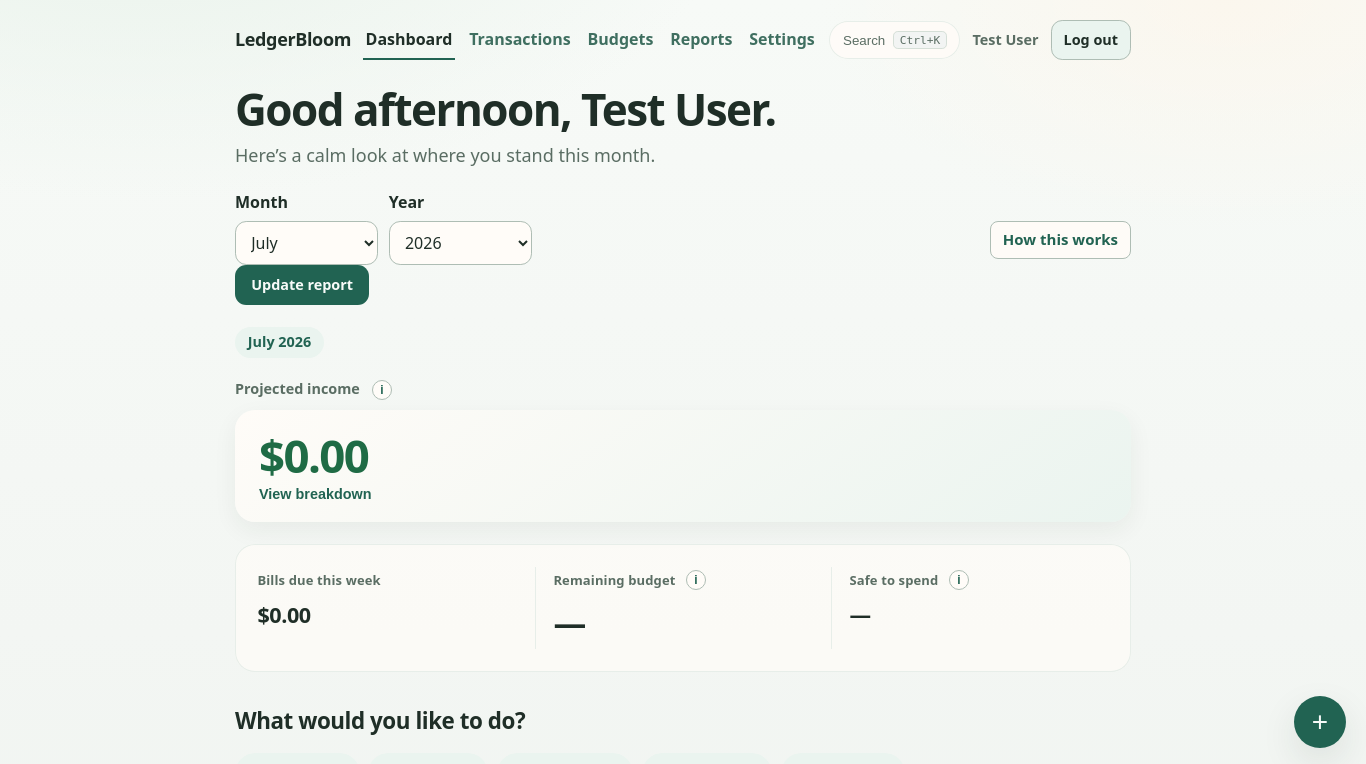
Scenario: Reports routes › navigates from Dashboard to Reports via primary nav
Expected: the heading "Good afternoon, Test User." is shown, [235, 79, 776, 139]
Step 1. Click the link "Reports" → (701, 39), box [670, 28, 732, 50]
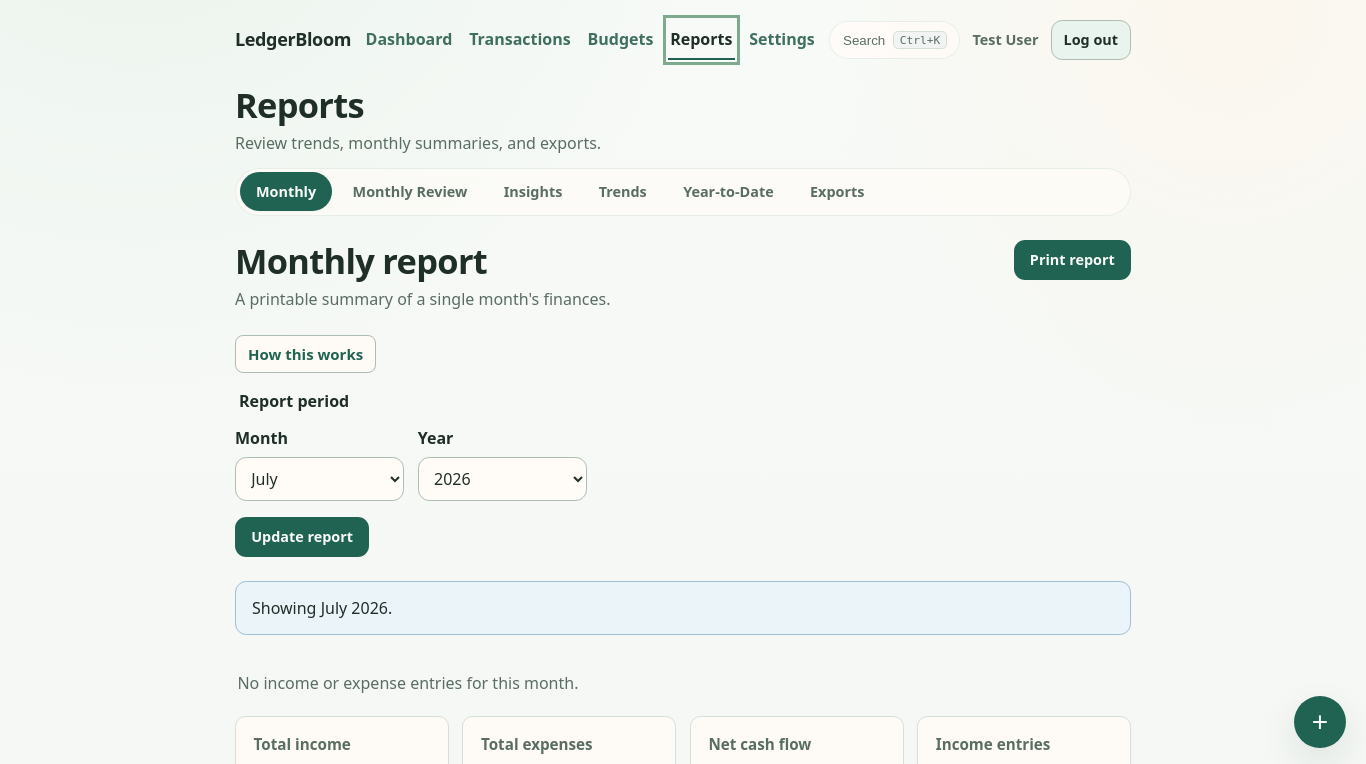
Expected: the heading "Monthly report" is shown, [235, 237, 487, 284]
Step 2. Click the link "Dashboard" → (409, 39), box [366, 28, 452, 50]
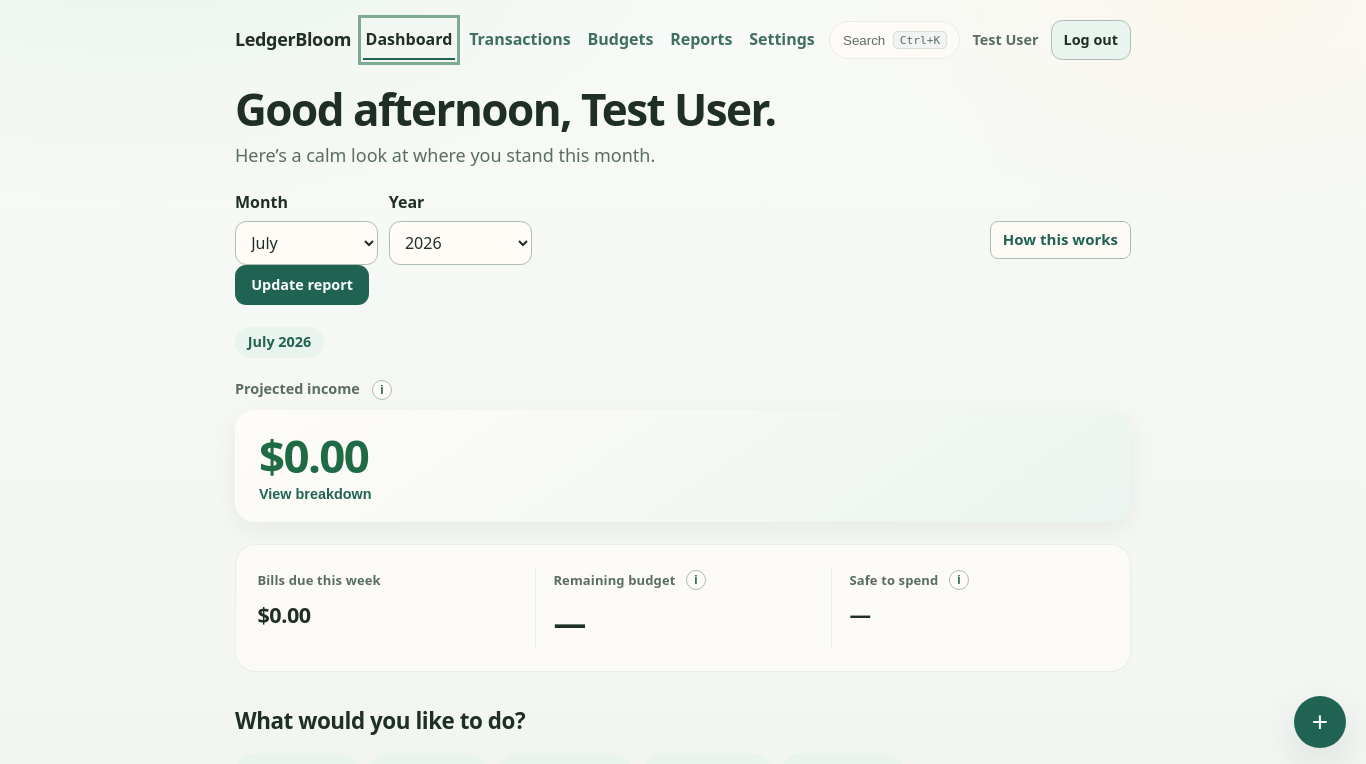
Expected: the heading "Good afternoon, Test User." is shown, [235, 79, 776, 139]
